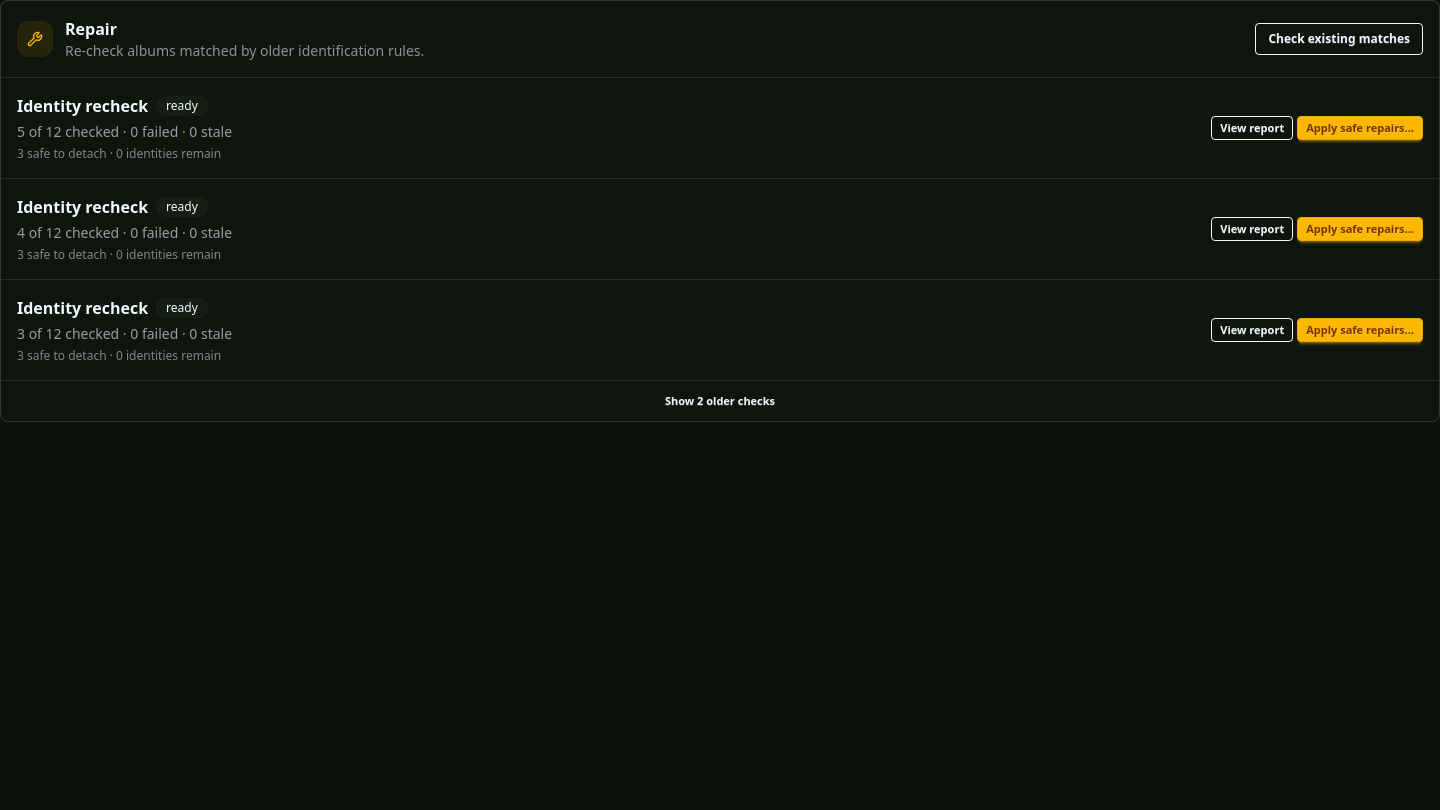
LibraryRepairPanel › shows three recent checks by default and keeps older audit history available
Expected: the text "3 of 12 checked · 0 failed · 0 stale" is shown, [17, 324, 232, 343]
Click the button "Show 2 older checks": x=720, y=401 [656, 389, 784, 413]
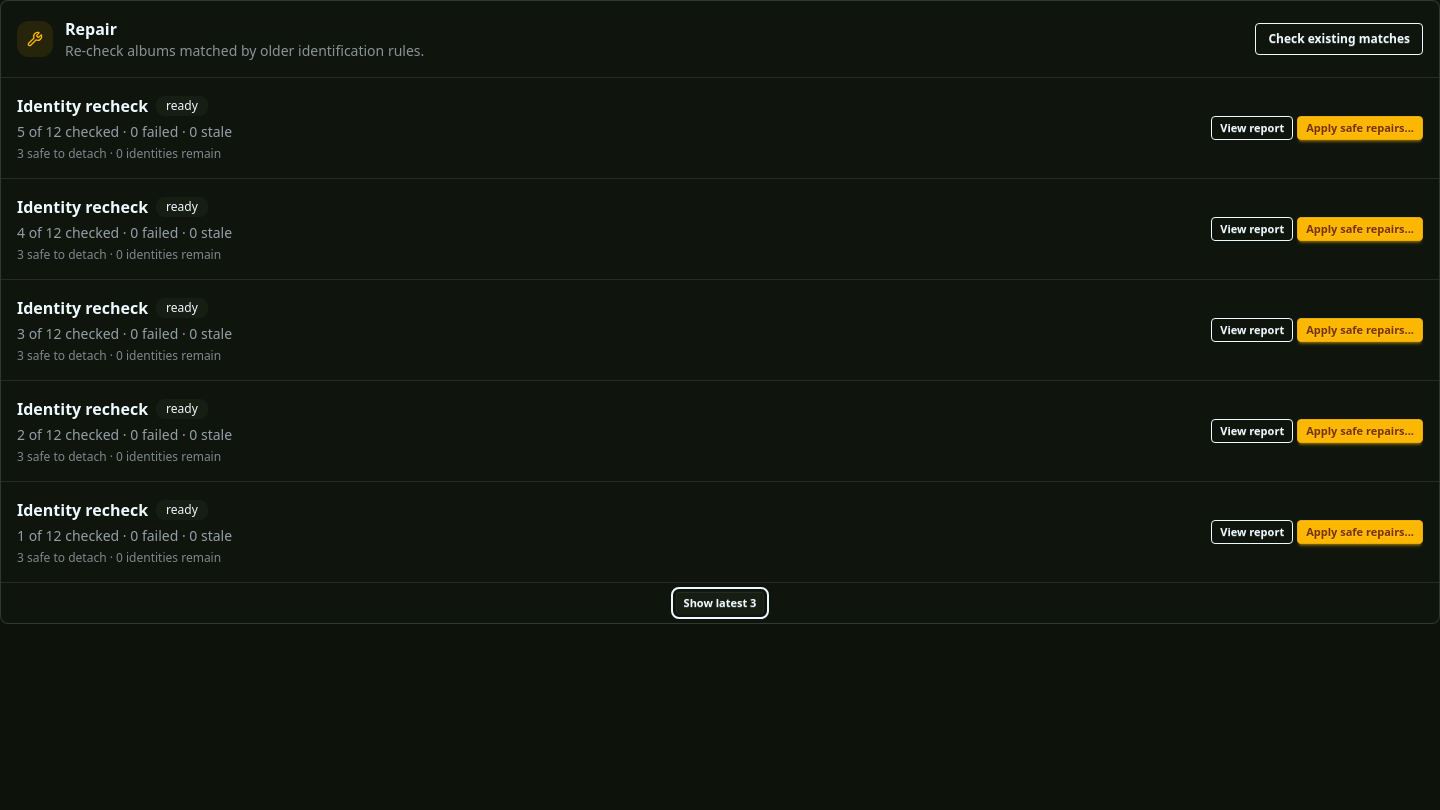
Expected: the text "2 of 12 checked · 0 failed · 0 stale" is shown, [17, 425, 232, 444]
Expected: the button "Show latest 3" is shown, [675, 591, 765, 615]
